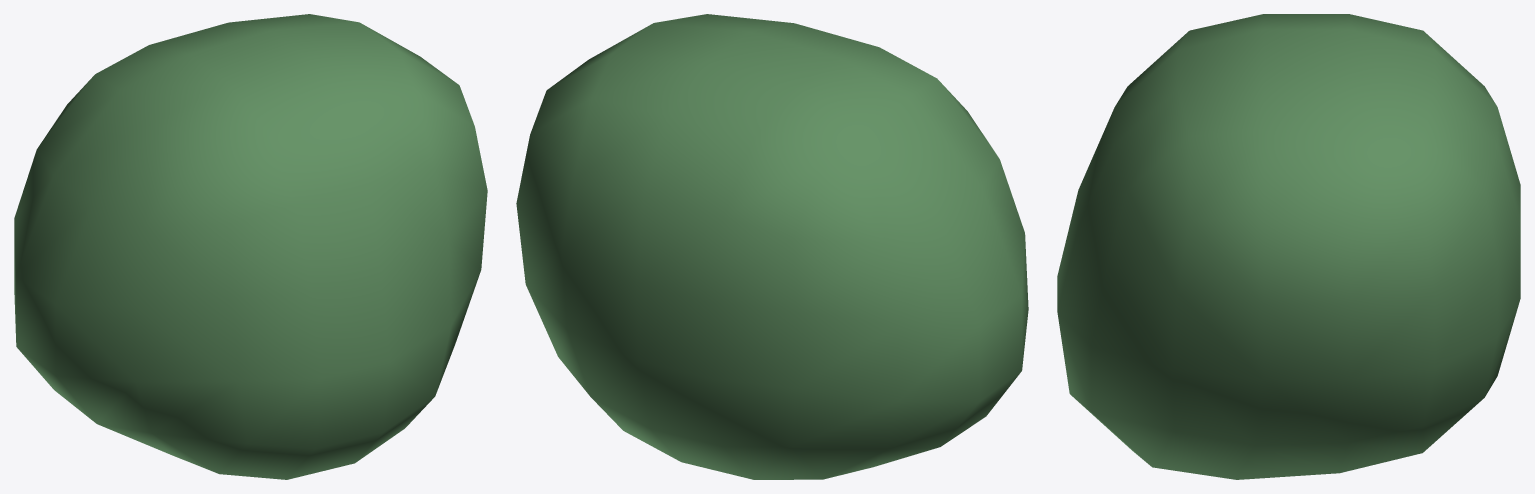
File: Hojas_2.fbx
The picture shows the model from 3 angles, left to right: view 1: azimuth 30°, elevation 25°; view 2: azimuth 150°, elevation 25°; view 3: azimuth 270°, elevation 25°; orthographic projection. The views are drawn at different scales.
Visible parts, largest first — view 1: Hojas_2; view 2: Hojas_2; view 3: Hojas_2.
Part boxes in pixels (x1,y1,x2,y2): Hojas_2: (14, 14, 487, 479); Hojas_2: (516, 14, 1028, 479); Hojas_2: (1057, 14, 1520, 479).
Size of the model in its own units: 690 by 580 by 600.
